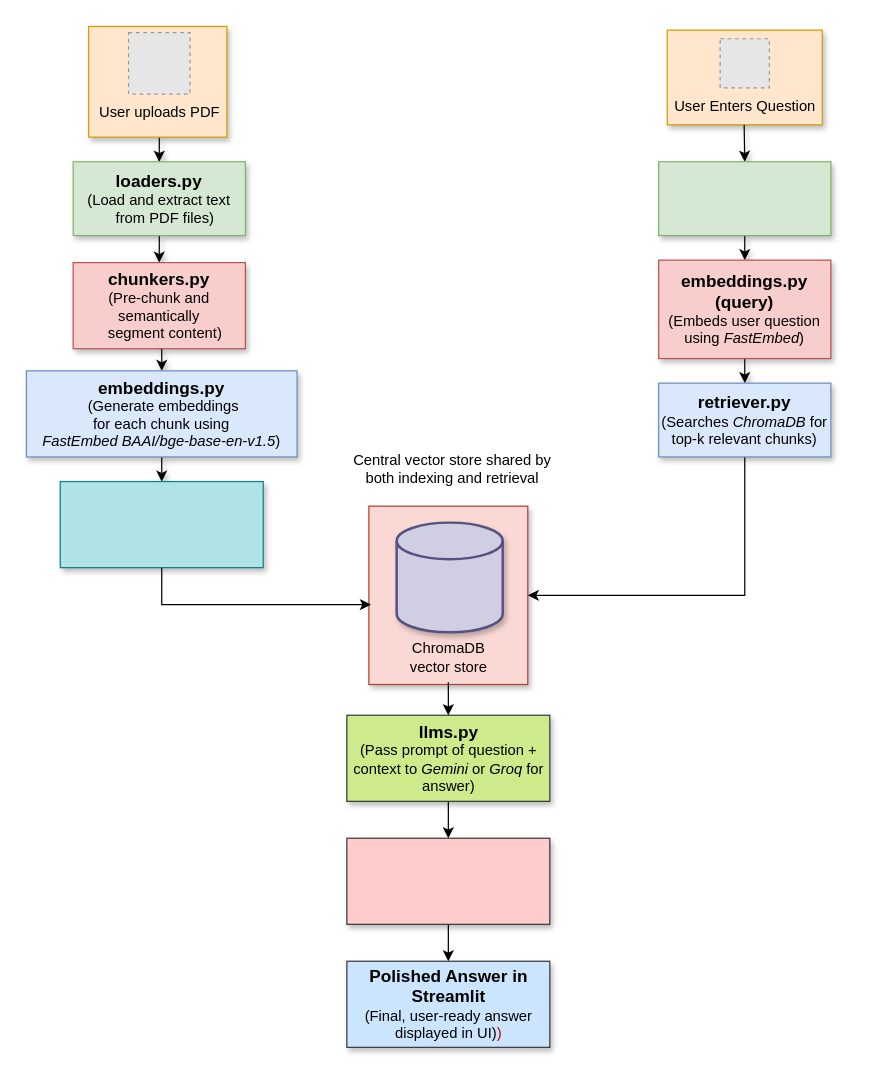
Image size: 872x1077. Some labels were removed from this diagram. Grey dashed boxes stand in for pictures. The centre of each missing label's shape, as x and y in pixels:
app.py / main.py ( Collects question input via Streamlit UI ): the point at 745,200
postprocess.py ( Polish answer using spaCy : clean, format ): the point at 449,882
Vector Embeddings: the point at 450,579
vectorstore.py ( Persist chunk embeddings to persistent ChromaDB ): the point at 162,525
